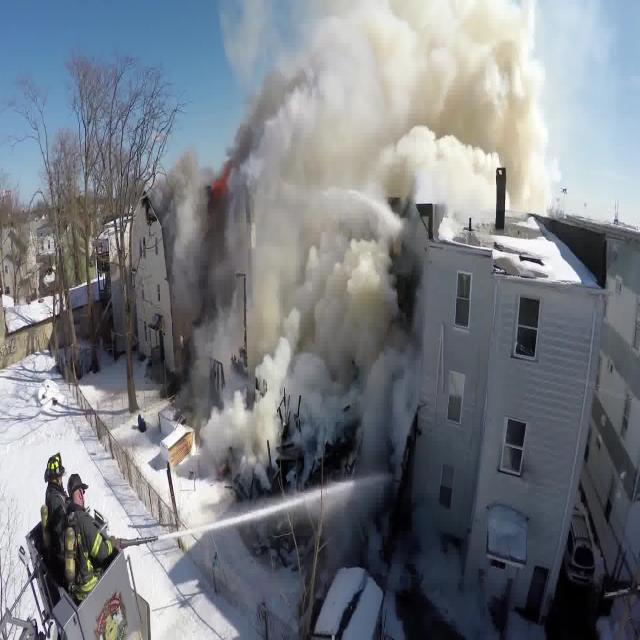Smoke: (151, 3, 555, 492)
